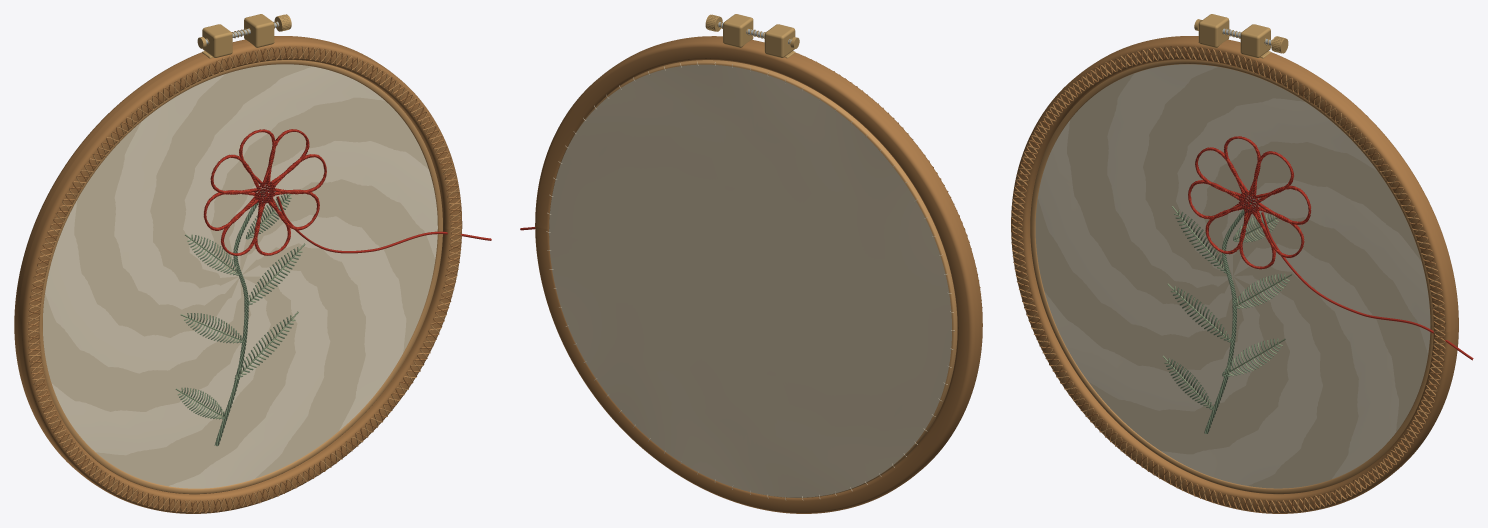
Rendered from atelier-hoop.glb.
3 views of the same model, side by side, from view 1: azimuth 30°, elevation 25°; view 2: azimuth 150°, elevation 25°; view 3: azimuth 330°, elevation 25° (orthographic).
Parts seen in each view (by area): view 1: atelier-linen-thickness, atelier-linen-face, atelier-outer-rim, atelier-inner-rim, atelier-rim-woven-highlights, atelier-rim-woven-recesses, atelier-satin-stitch-leaves, atelier-leaf-veins-and-highlights, atelier-clamp-cheeks, atelier-embroidered-stem, atelier-loose-thread-end; view 2: atelier-fabric-backing, atelier-outer-rim, atelier-inner-rim, atelier-clamp-cheeks; view 3: atelier-linen-thickness, atelier-linen-face, atelier-outer-rim, atelier-inner-rim, atelier-rim-woven-highlights, atelier-rim-woven-recesses, atelier-satin-stitch-leaves, atelier-leaf-veins-and-highlights, atelier-clamp-cheeks, atelier-embroidered-stem, atelier-loose-thread-end.
Part boxes in pixels (x1,y1,x2,y2): atelier-linen-thickness: [43, 64, 435, 486]; atelier-linen-face: [45, 66, 437, 488]; atelier-outer-rim: [14, 36, 462, 513]; atelier-inner-rim: [39, 60, 442, 494]; atelier-rim-woven-highlights: [27, 46, 461, 513]; atelier-rim-woven-recesses: [27, 46, 461, 512]; atelier-satin-stitch-leaves: [179, 194, 300, 419]; atelier-leaf-veins-and-highlights: [175, 193, 305, 419]; atelier-clamp-cheeks: [202, 14, 274, 58]; atelier-embroidered-stem: [214, 189, 264, 446]; atelier-loose-thread-end: [276, 196, 491, 253]; atelier-fabric-backing: [549, 64, 951, 497]; atelier-outer-rim: [535, 36, 982, 513]; atelier-inner-rim: [549, 60, 957, 498]; atelier-clamp-cheeks: [723, 14, 795, 58]; atelier-linen-thickness: [1035, 67, 1427, 488]; atelier-linen-face: [1038, 64, 1430, 485]; atelier-outer-rim: [1011, 36, 1458, 513]; atelier-inner-rim: [1030, 60, 1433, 494]; atelier-rim-woven-highlights: [1011, 46, 1445, 513]; atelier-rim-woven-recesses: [1011, 46, 1445, 513]; atelier-satin-stitch-leaves: [1166, 212, 1287, 409]; atelier-leaf-veins-and-highlights: [1162, 206, 1291, 409]; atelier-clamp-cheeks: [1198, 14, 1270, 58]; atelier-embroidered-stem: [1204, 199, 1251, 433]; atelier-loose-thread-end: [1261, 212, 1473, 360].
Bounding box in the file's own units: 1.76 × 1.74 × 0.1103.
